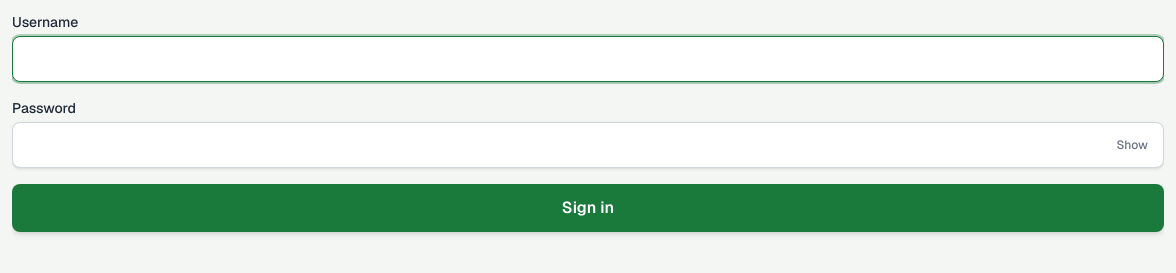
Test: the organiser login form › stops warning once the field is left
Click the password field labelled "Password": (588, 145) top-left (12, 122), bottom-right (1164, 168)
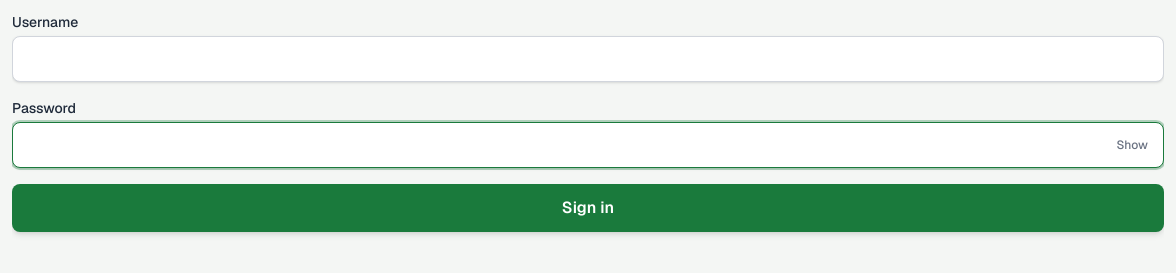
Type keys "{CapsLock}a"
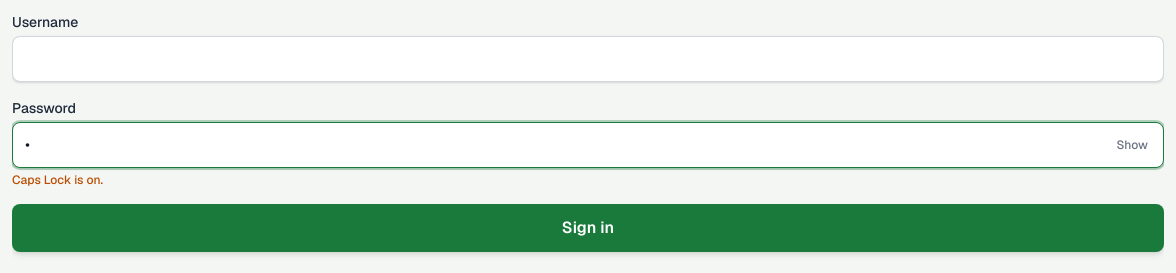
Result: the text "Caps Lock is on." is shown at top-left (12, 172), bottom-right (103, 188)
Press Tab
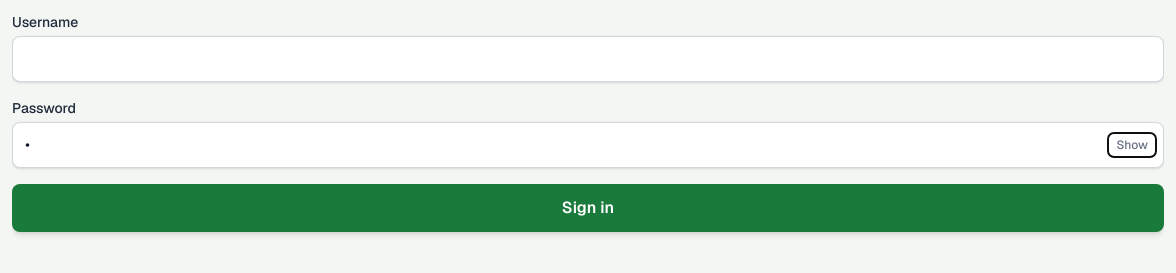
Result: the text "Caps Lock is on" is gone
